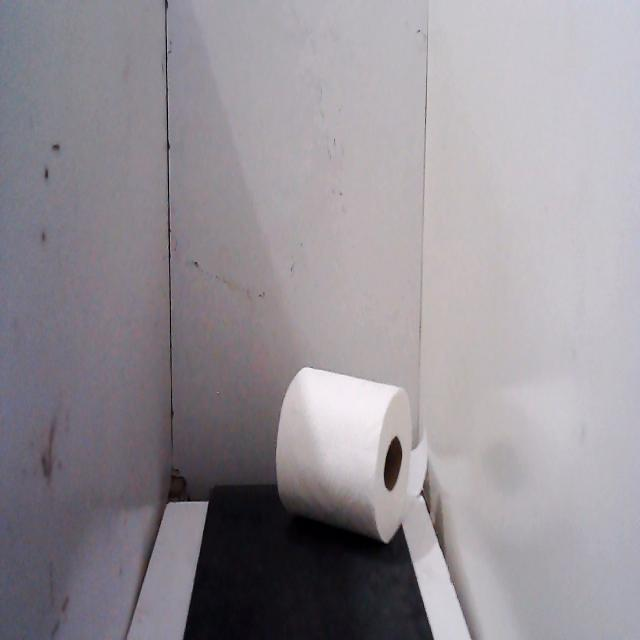papel: (271, 355, 431, 553)
